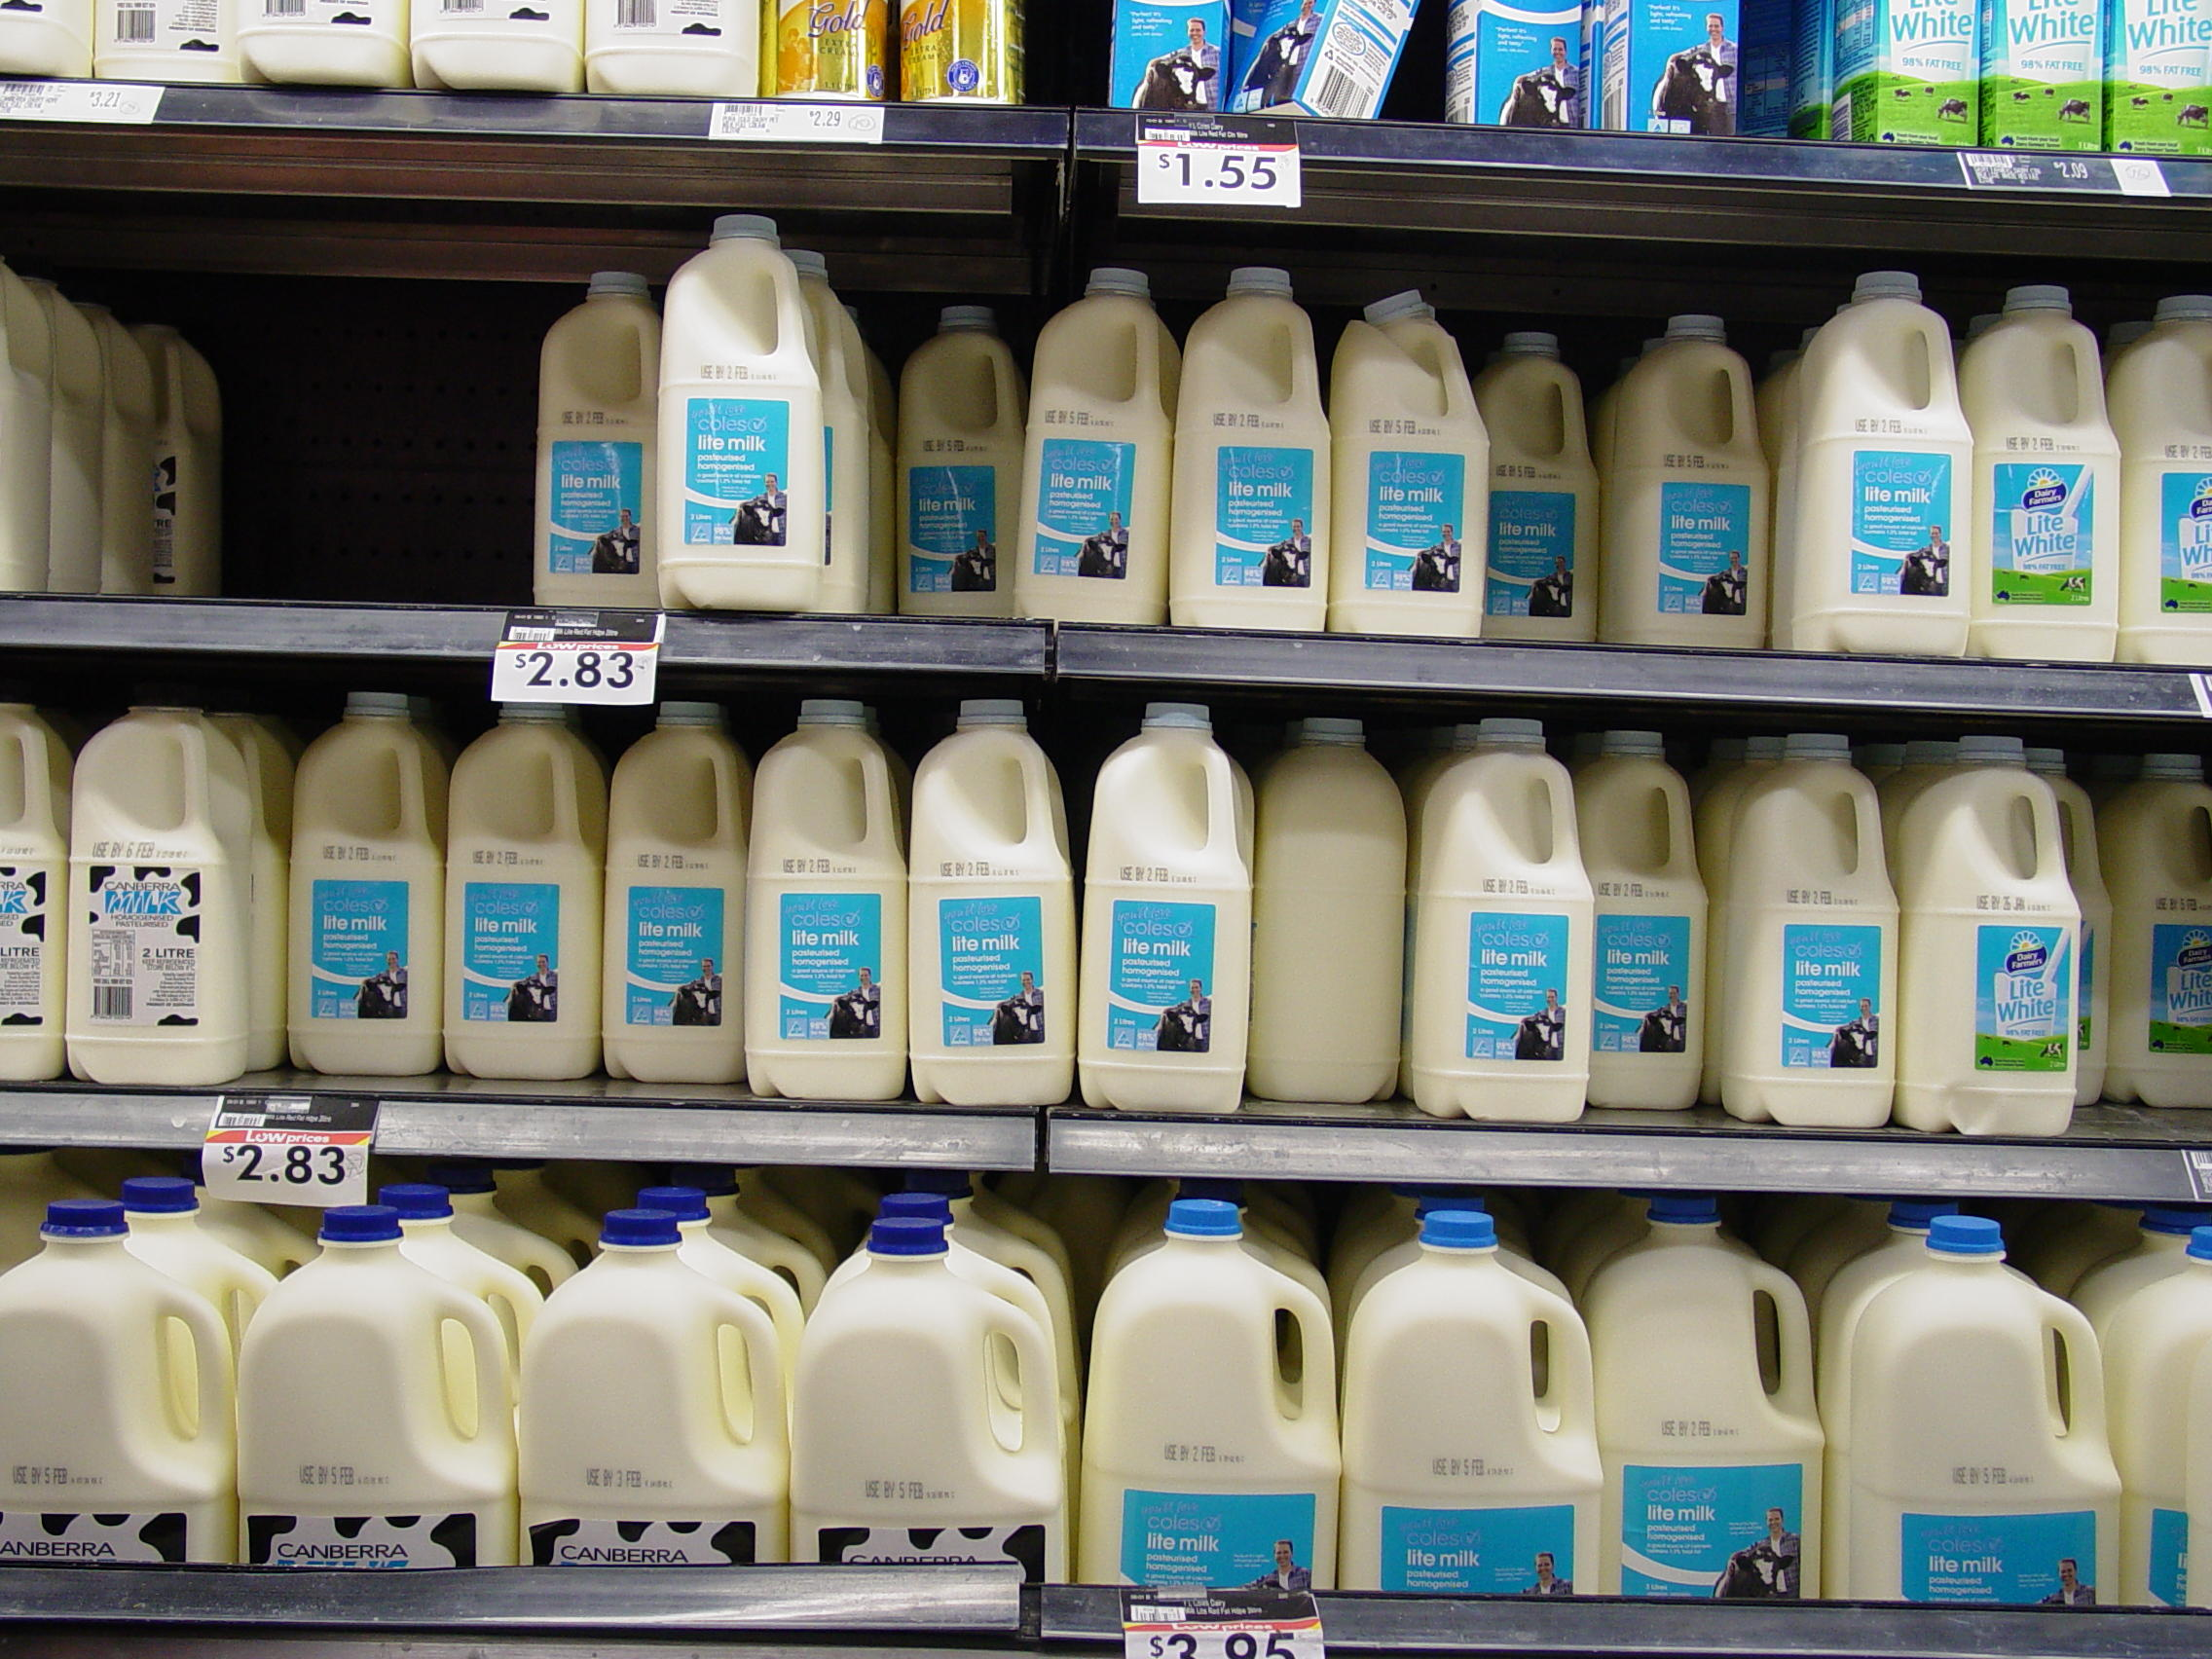Misplacement: (275, 676, 728, 1100), (1460, 265, 1789, 659), (1224, 704, 1430, 1114), (1573, 678, 1735, 1133), (857, 247, 1014, 610)
Out-of-stock: (82, 197, 526, 599)
